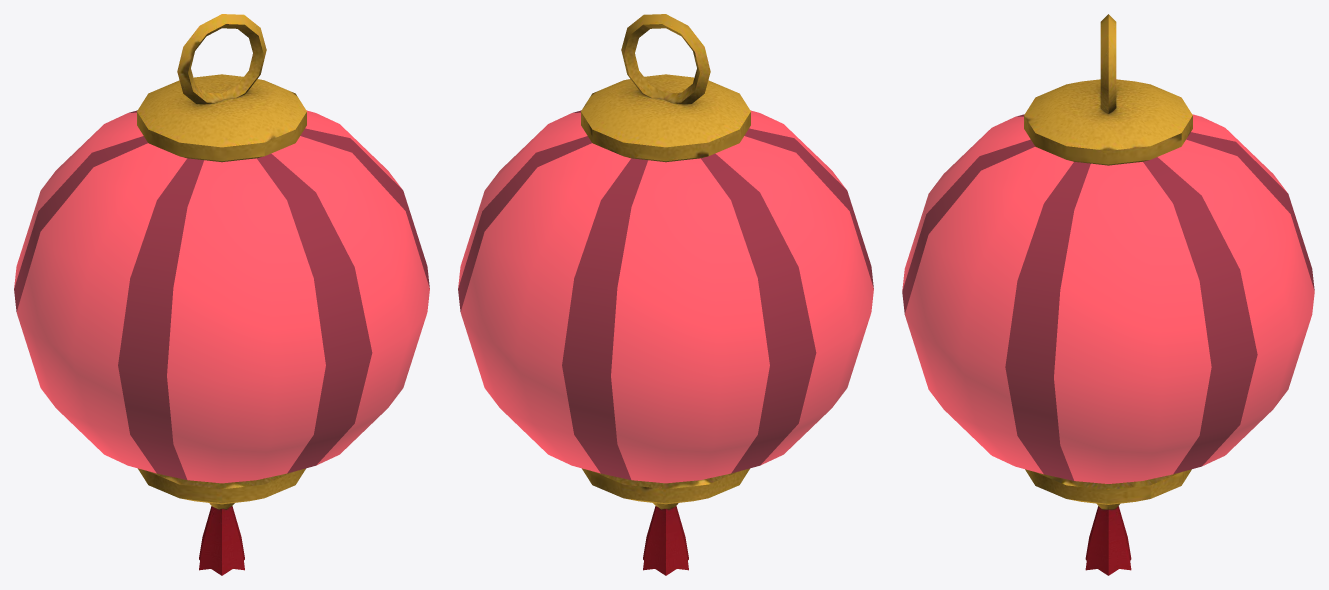
3 renders of one model, left to right at view 1: azimuth 30°, elevation 25°; view 2: azimuth 150°, elevation 25°; view 3: azimuth 270°, elevation 25°, orthographic.
Visible parts, largest first — view 1: glow_Crimson_illuminated_lacquer_silk, glow_Burgundy_silk_valleys, Palace_polished_gold, Crimson_silk_tassel; view 2: glow_Crimson_illuminated_lacquer_silk, glow_Burgundy_silk_valleys, Palace_polished_gold, Crimson_silk_tassel; view 3: glow_Crimson_illuminated_lacquer_silk, glow_Burgundy_silk_valleys, Palace_polished_gold, Crimson_silk_tassel.
Boxes of the visible parts, x1,y1,x2,y2 form: glow_Crimson_illuminated_lacquer_silk: (14, 110, 429, 483); glow_Burgundy_silk_valleys: (14, 110, 429, 479); Palace_polished_gold: (137, 14, 306, 509); Crimson_silk_tassel: (199, 506, 244, 575); glow_Crimson_illuminated_lacquer_silk: (458, 110, 873, 483); glow_Burgundy_silk_valleys: (458, 110, 873, 479); Palace_polished_gold: (581, 14, 750, 509); Crimson_silk_tassel: (643, 506, 688, 575); glow_Crimson_illuminated_lacquer_silk: (902, 114, 1314, 483); glow_Burgundy_silk_valleys: (902, 114, 1314, 480); Palace_polished_gold: (1024, 14, 1192, 509); Crimson_silk_tassel: (1085, 506, 1131, 575).
Size of the model in its own units: 0.7154 by 1 by 0.6846.
Materials: 4 (2 with a texture image).
